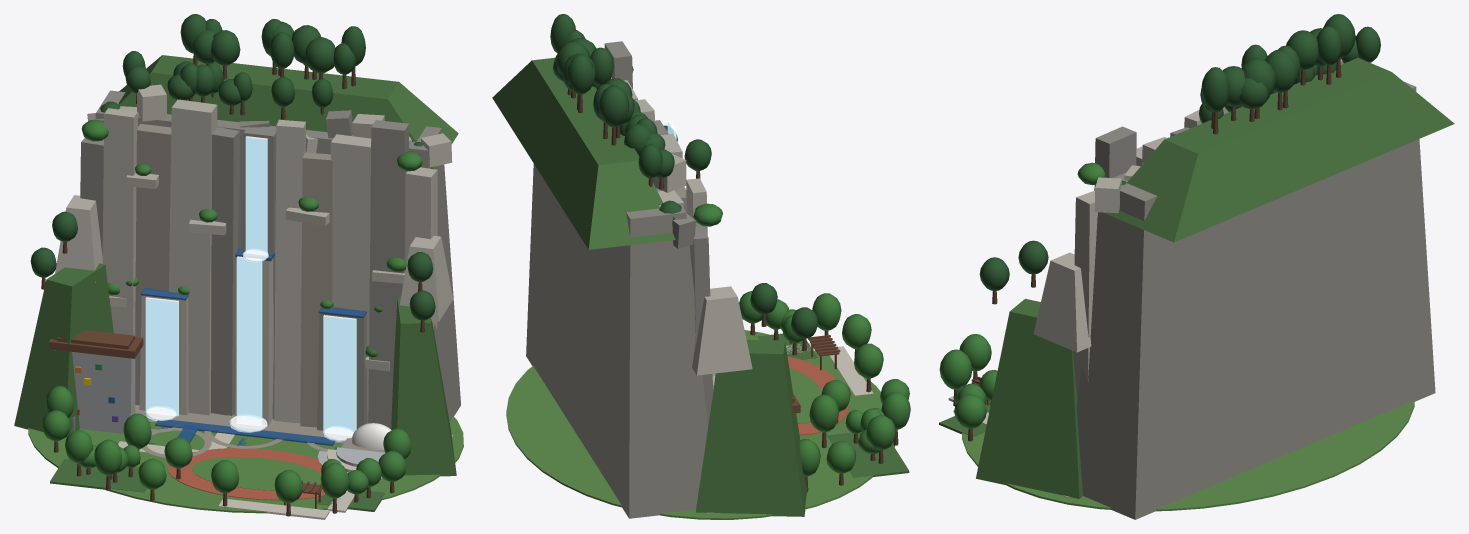
File: yongma-falls.glb
3 renders of one model, left to right at view 1: azimuth 30°, elevation 25°; view 2: azimuth 150°, elevation 25°; view 3: azimuth 270°, elevation 25°, orthographic. The views are drawn at different scales.
Bounding box in the file's own units: 76.01 × 66.8 × 75.31.
